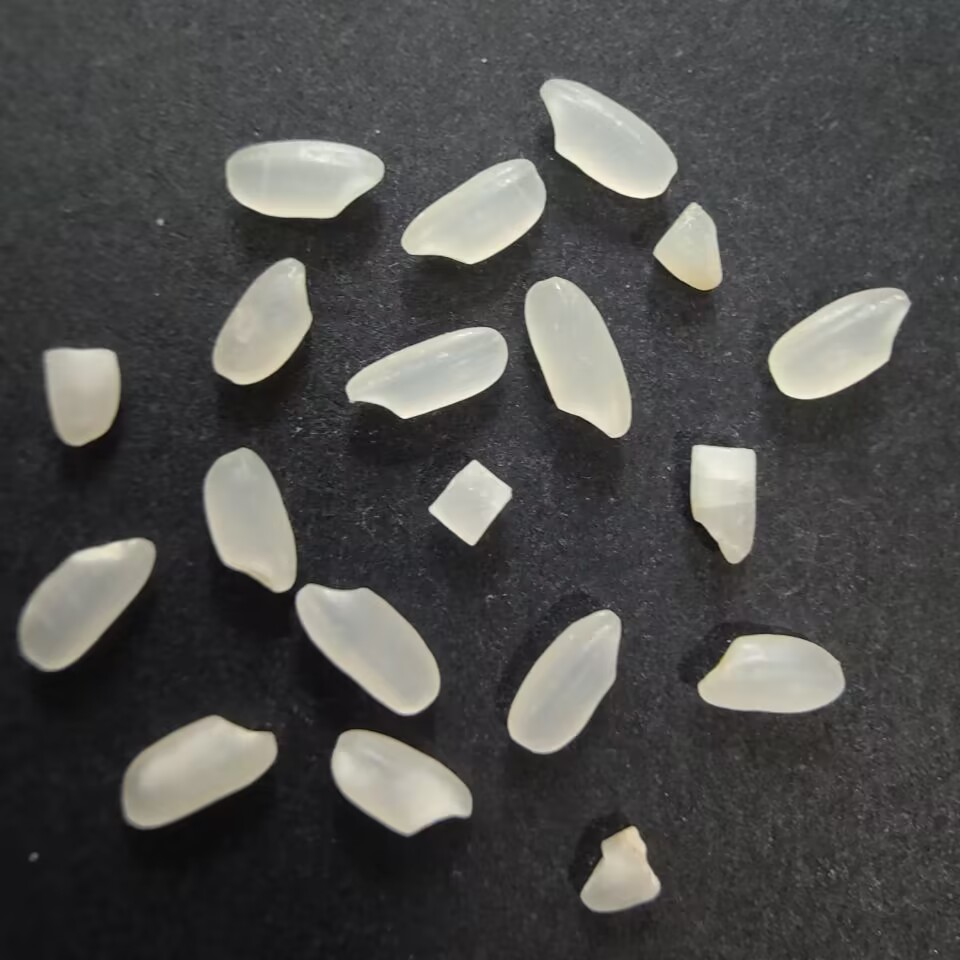broken: (676, 434, 763, 568), (34, 343, 129, 453), (425, 451, 516, 551), (579, 820, 659, 920), (645, 198, 729, 293)
rice: (118, 708, 285, 833), (15, 531, 156, 679), (293, 581, 444, 718), (533, 72, 683, 203), (522, 274, 635, 444), (502, 605, 623, 761), (338, 321, 516, 424), (326, 725, 477, 842), (396, 154, 549, 267), (763, 285, 912, 401), (197, 443, 301, 596), (207, 249, 316, 394), (216, 136, 386, 225), (689, 626, 852, 717)
